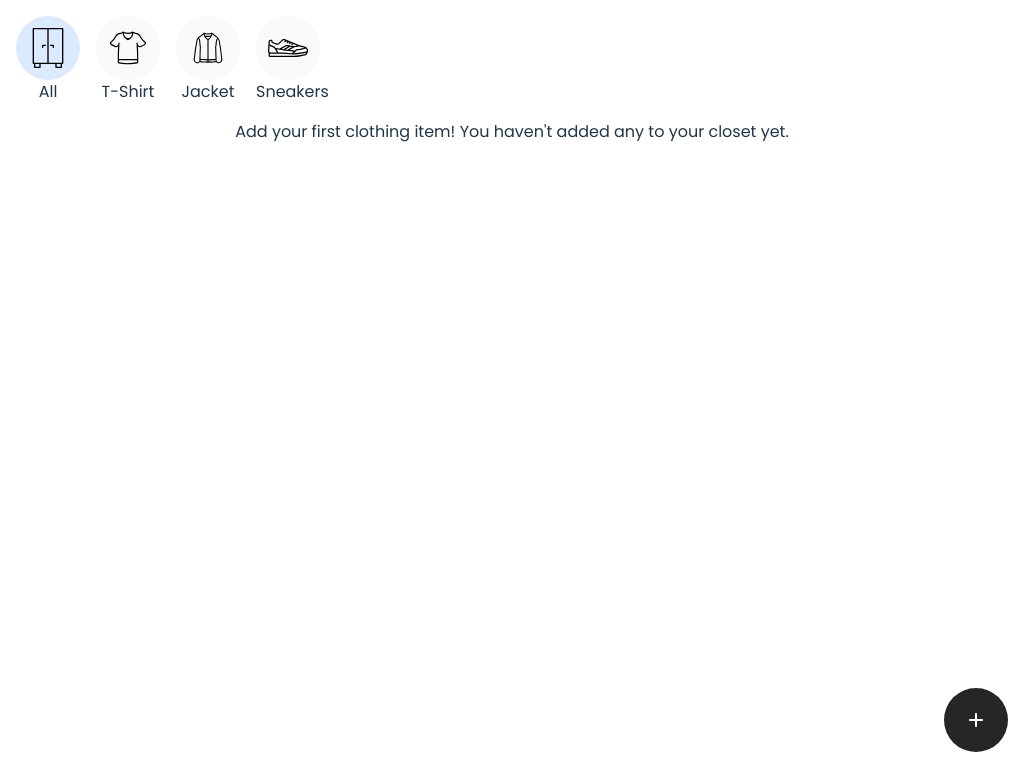
Scenario: Closet Empty Category › should show the message 'Add your first shirt! You haven't added any to your closet yet.' when no T-Shirts exist in the user's closet and the T-Shirt category i
Expected: the text "T-Shirt" is shown, [102,80,154,103]
# Click the T-Shirt filter button
Step 1. Click the 2nd button named "T-Shirt" → (128, 48), box [96,16,160,80]
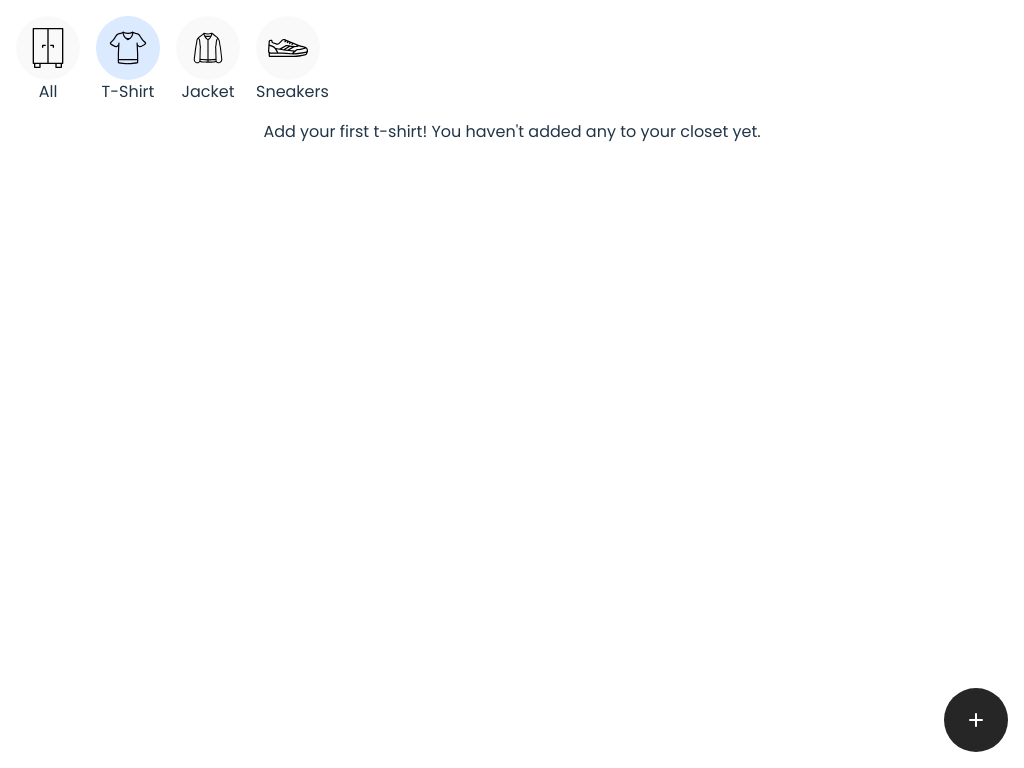
Expected: the text "Add your first t-shirt! You haven't added any to your closet yet." is shown, [263,120,761,143]
